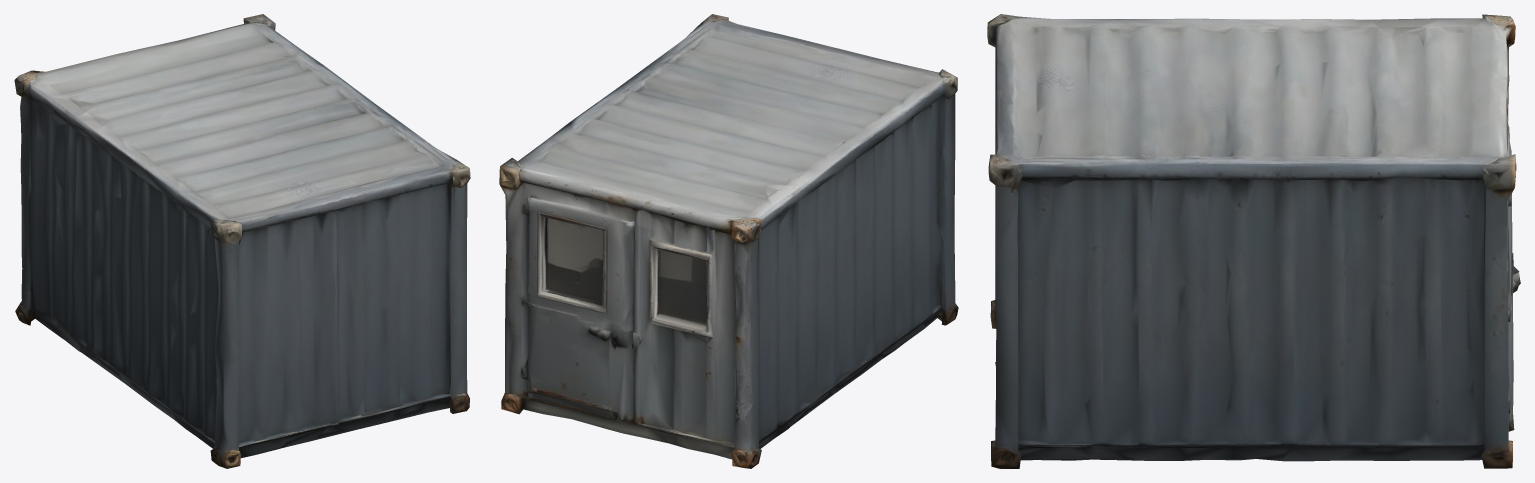
File: qr_cabin.glb
The picture shows the model from 3 angles, left to right: view 1: azimuth 30°, elevation 25°; view 2: azimuth 150°, elevation 25°; view 3: azimuth 270°, elevation 25°; orthographic projection. The views are drawn at different scales.
Parts seen in each view (by area): view 1: tripo_node_55732a4b-5487-4fe5-a5bb-c623ae9837a2; view 2: tripo_node_55732a4b-5487-4fe5-a5bb-c623ae9837a2; view 3: tripo_node_55732a4b-5487-4fe5-a5bb-c623ae9837a2.
Boxes of the visible parts, bbox=[...] form: tripo_node_55732a4b-5487-4fe5-a5bb-c623ae9837a2: bbox=[14, 14, 470, 468]; tripo_node_55732a4b-5487-4fe5-a5bb-c623ae9837a2: bbox=[499, 14, 958, 468]; tripo_node_55732a4b-5487-4fe5-a5bb-c623ae9837a2: bbox=[987, 14, 1520, 468].
Bounding box in the file's own units: 0.6799 × 0.6322 × 1.
Materials: 1 (1 with a texture image).
